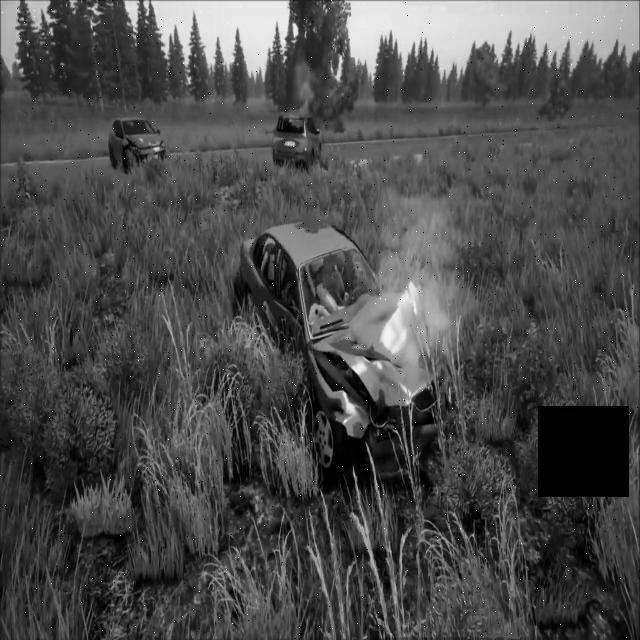accident: (229, 209, 470, 493)
vehicle: (107, 116, 170, 168), (271, 109, 323, 169)
